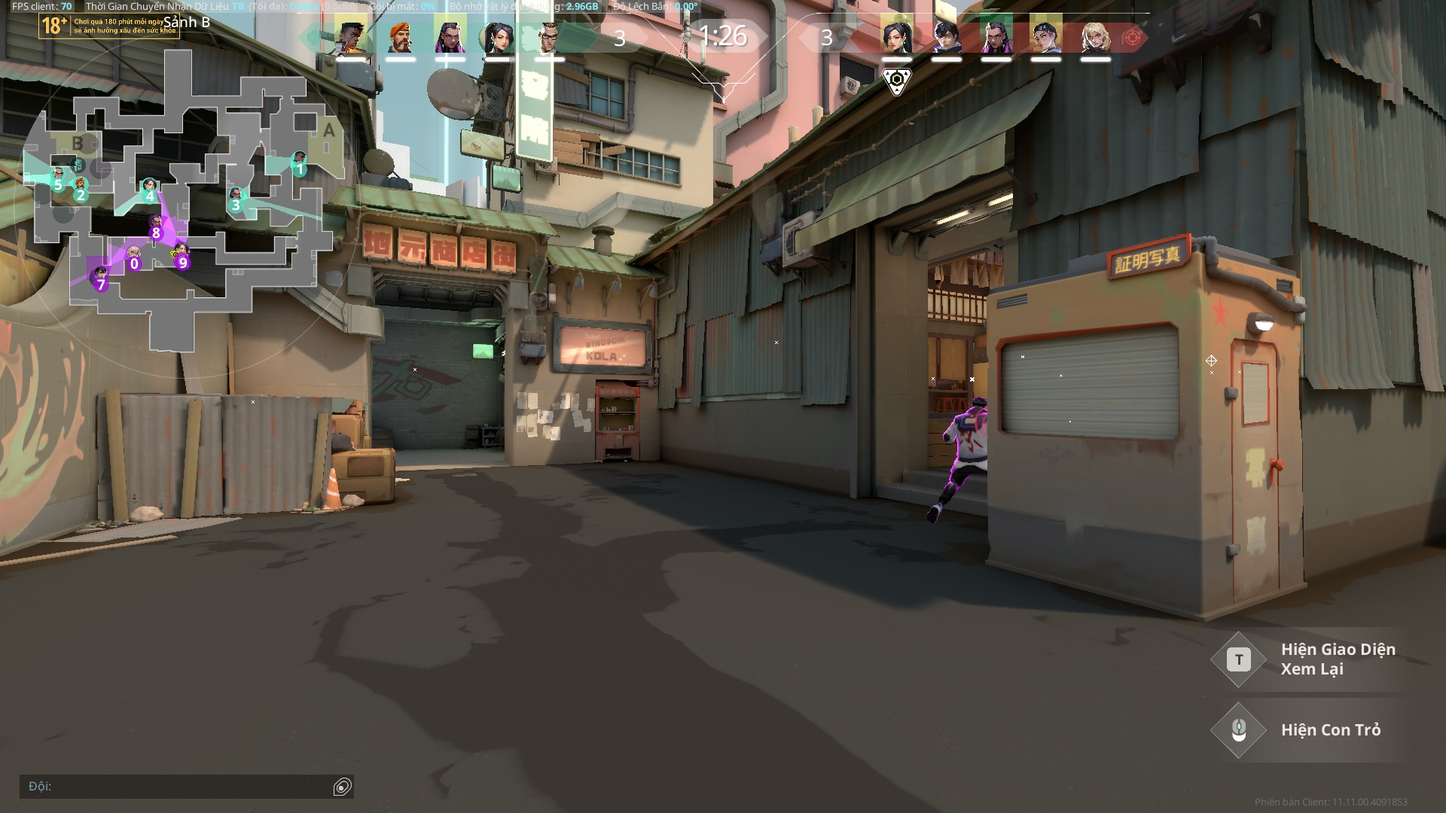body: (953, 409, 987, 463)
head: (971, 395, 986, 408)
